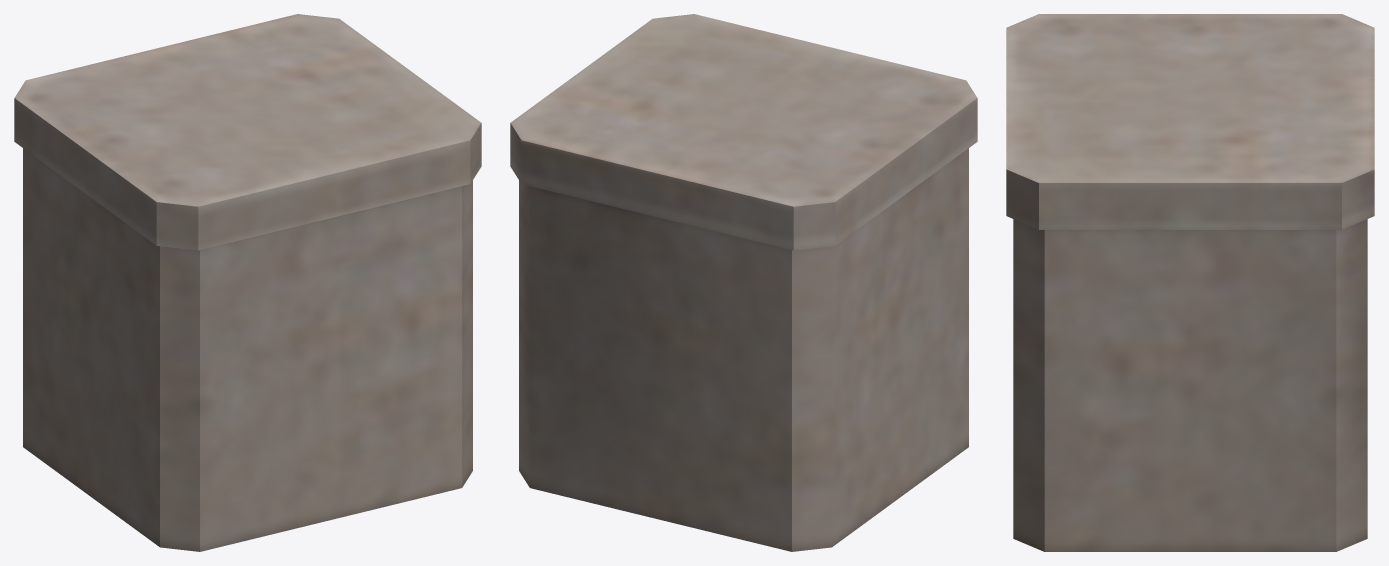
Rendered from Wastebasket.FBX.
The picture shows the model from 3 angles, left to right: view 1: azimuth 30°, elevation 25°; view 2: azimuth 150°, elevation 25°; view 3: azimuth 270°, elevation 25°; orthographic projection. The views are drawn at different scales.
Visible parts, largest first — view 1: Wastebasket; view 2: Wastebasket; view 3: Wastebasket.
Part boxes in pixels (<box>): Wastebasket: <box>14,14,481,551</box>; Wastebasket: <box>510,14,977,551</box>; Wastebasket: <box>1006,14,1374,551</box>.
Size of the model in its own units: 0.2556 by 0.2622 by 0.2353.
